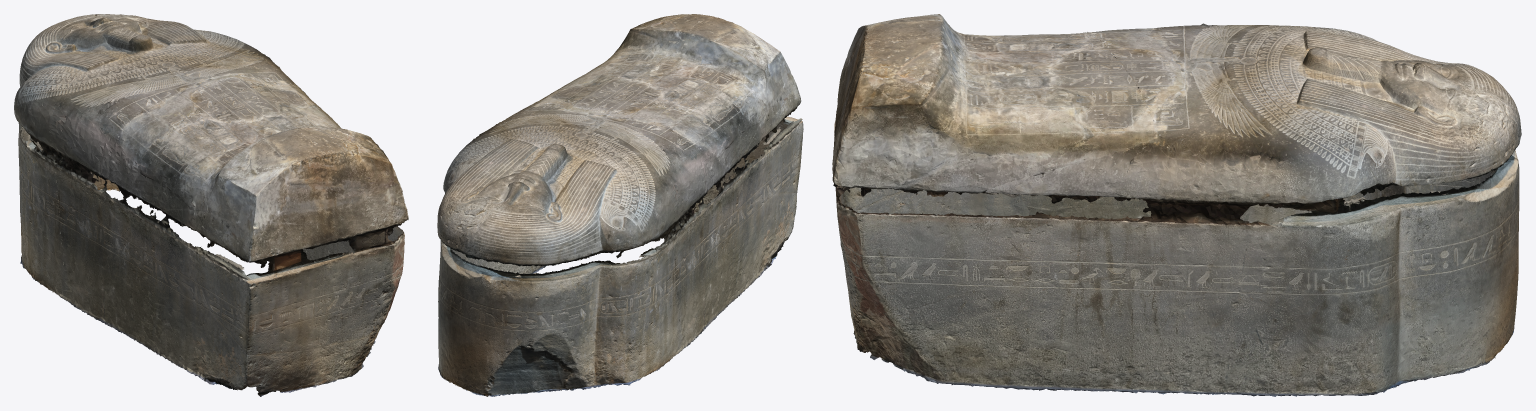
The model's file is psamtik-seneb-30k.obj.
3 renders of one model, left to right at view 1: azimuth 30°, elevation 25°; view 2: azimuth 150°, elevation 25°; view 3: azimuth 270°, elevation 25°, orthographic. The views are drawn at different scales.
Parts seen in each view (by area): view 1: psamtik-seneb-30k_psamtik-seneb-30k_psamtik-seneb-30k3, psamtik-seneb-30k_psamtik-seneb-30k_psamtik-seneb-30k1, psamtik-seneb-30k_psamtik-seneb-30k_psamtik-seneb-30k, psamtik-seneb-30k_psamtik-seneb-30k_psamtik-seneb-30k2; view 2: psamtik-seneb-30k_psamtik-seneb-30k_psamtik-seneb-30k1, psamtik-seneb-30k_psamtik-seneb-30k_psamtik-seneb-30k3, psamtik-seneb-30k_psamtik-seneb-30k_psamtik-seneb-30k, psamtik-seneb-30k_psamtik-seneb-30k_psamtik-seneb-30k2; view 3: psamtik-seneb-30k_psamtik-seneb-30k_psamtik-seneb-30k2, psamtik-seneb-30k_psamtik-seneb-30k_psamtik-seneb-30k, psamtik-seneb-30k_psamtik-seneb-30k_psamtik-seneb-30k1, psamtik-seneb-30k_psamtik-seneb-30k_psamtik-seneb-30k3.
Boxes of the visible parts, x1,y1,x2,y2 form: psamtik-seneb-30k_psamtik-seneb-30k_psamtik-seneb-30k3: [14, 14, 405, 396]; psamtik-seneb-30k_psamtik-seneb-30k_psamtik-seneb-30k1: [18, 51, 358, 390]; psamtik-seneb-30k_psamtik-seneb-30k_psamtik-seneb-30k: [20, 15, 408, 388]; psamtik-seneb-30k_psamtik-seneb-30k_psamtik-seneb-30k2: [21, 52, 398, 367]; psamtik-seneb-30k_psamtik-seneb-30k_psamtik-seneb-30k1: [471, 14, 802, 394]; psamtik-seneb-30k_psamtik-seneb-30k_psamtik-seneb-30k3: [441, 100, 779, 396]; psamtik-seneb-30k_psamtik-seneb-30k_psamtik-seneb-30k: [437, 14, 803, 385]; psamtik-seneb-30k_psamtik-seneb-30k_psamtik-seneb-30k2: [438, 88, 802, 384]; psamtik-seneb-30k_psamtik-seneb-30k_psamtik-seneb-30k2: [834, 25, 1504, 393]; psamtik-seneb-30k_psamtik-seneb-30k_psamtik-seneb-30k: [832, 14, 1508, 394]; psamtik-seneb-30k_psamtik-seneb-30k_psamtik-seneb-30k1: [834, 14, 1519, 396]; psamtik-seneb-30k_psamtik-seneb-30k_psamtik-seneb-30k3: [832, 23, 1521, 378].
Bounding box in the file's own units: 1.08 × 1.06 × 2.22.
Materials: 4 (4 with a texture image).
